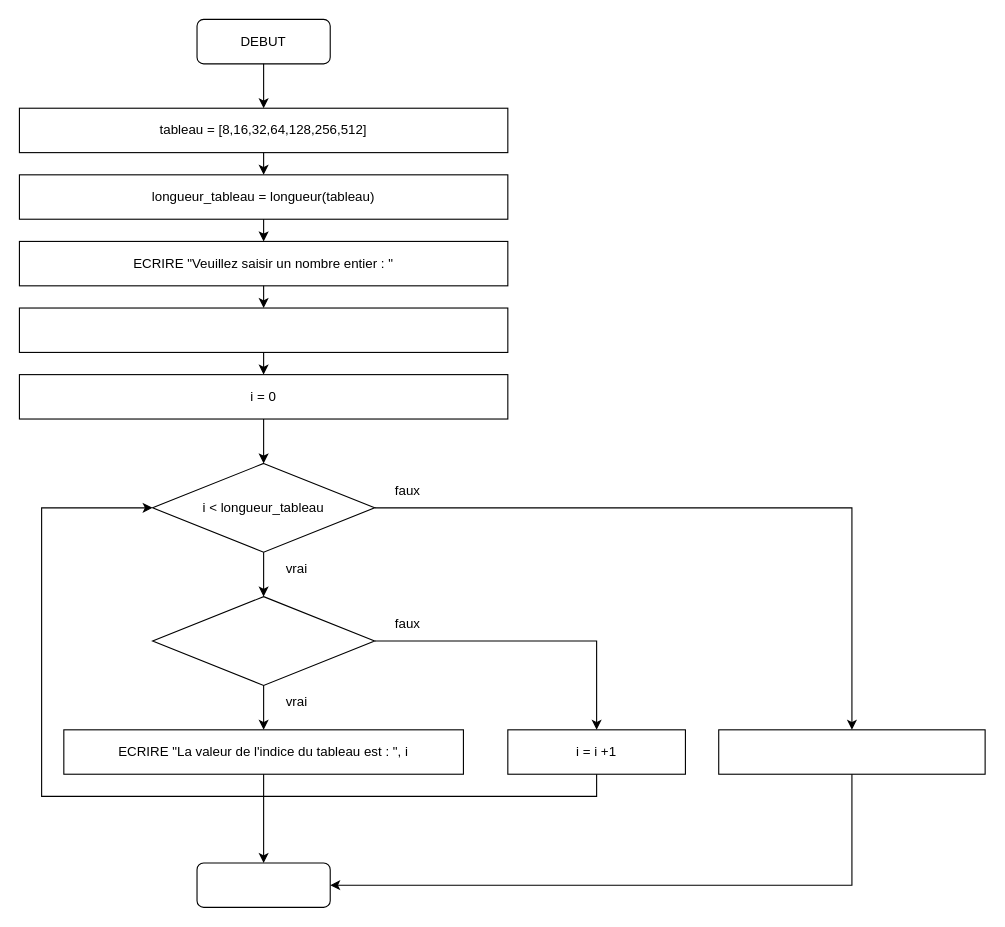
This 1005x927 diagram has some shape labels left out. The centre of each missing label's shape, as x and y in pixels:
ECRIRE "Nombre non trouvé": (x=851, y=751)
FIN: (x=263, y=884)
LIRE nombre: (x=263, y=329)
tableau[i] = nombre: (x=263, y=640)
